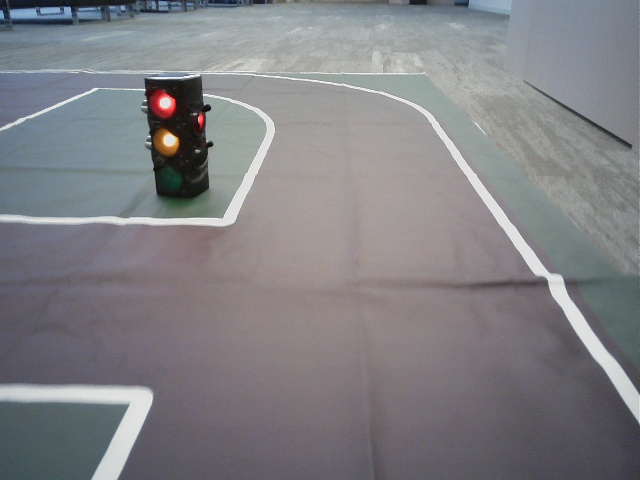red: (145, 84, 185, 193)
